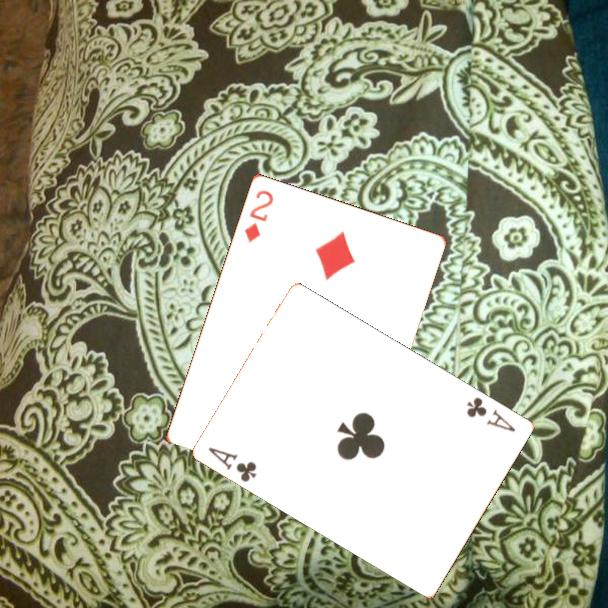c01: (463, 393, 519, 435), (205, 443, 260, 485)
d02: (241, 186, 276, 245)
